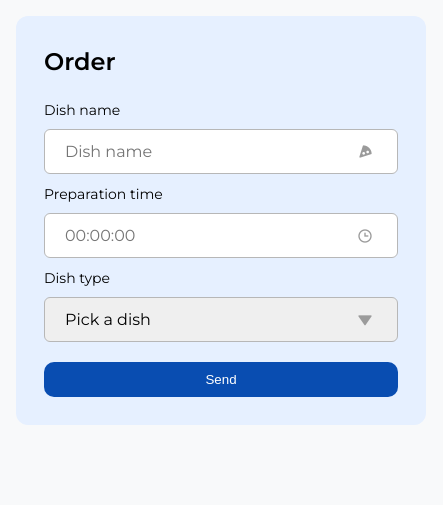
Test: <Form /> › Dish type "soup" is selected › should render soup related inputs (spiceness scale)
Select "Soup" in the dropdown at point(221, 320), box [44,297,398,342]
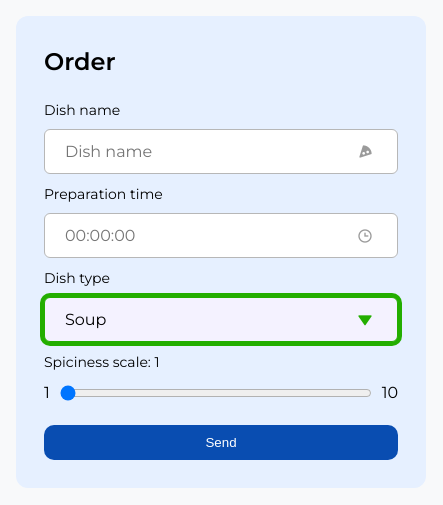
Result: the slider is shown at [60,385,372,401]
